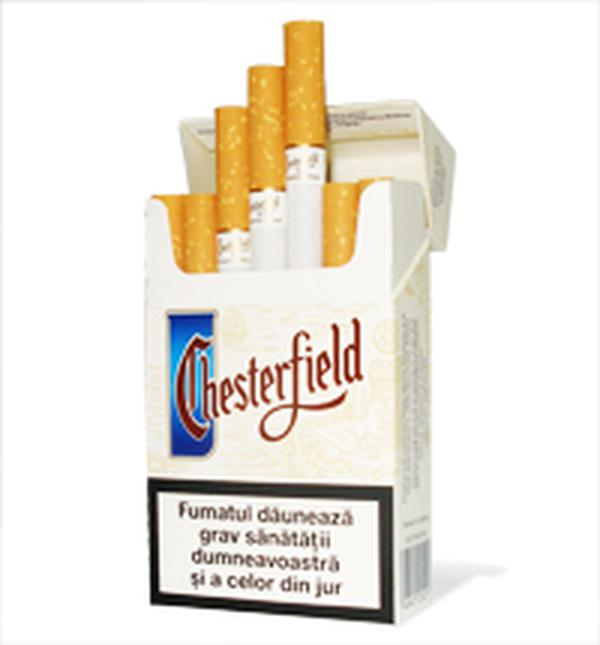chesterfield_blue: (147, 200, 394, 604)
